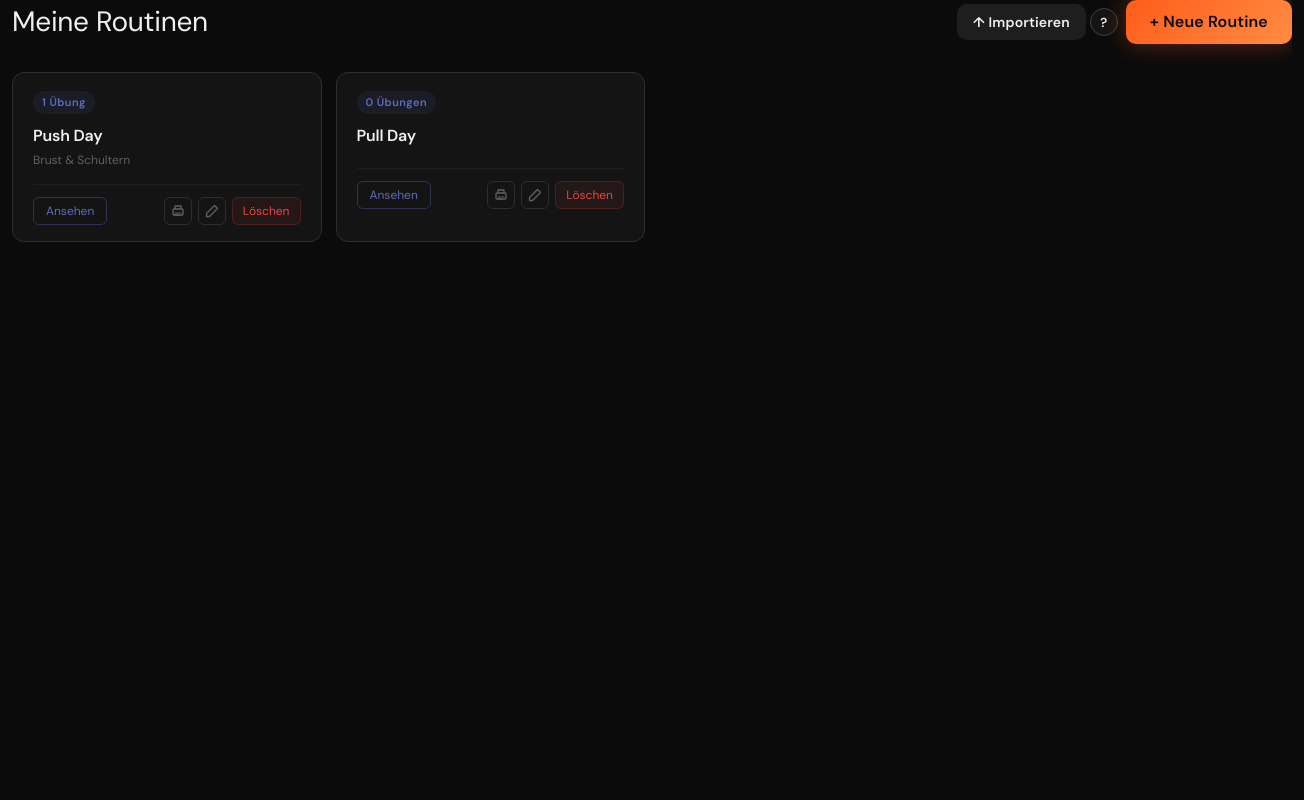
Scenario: RoutineList – Import-Infobox › shows Kopieren button inside infobox
What coordinates should you click on to do the following:
click the button named "import-hilfe anzeigen"
I would click on:
 (1104, 22)
Its box is top-left (1090, 8), bottom-right (1118, 36).
(page scrolled)
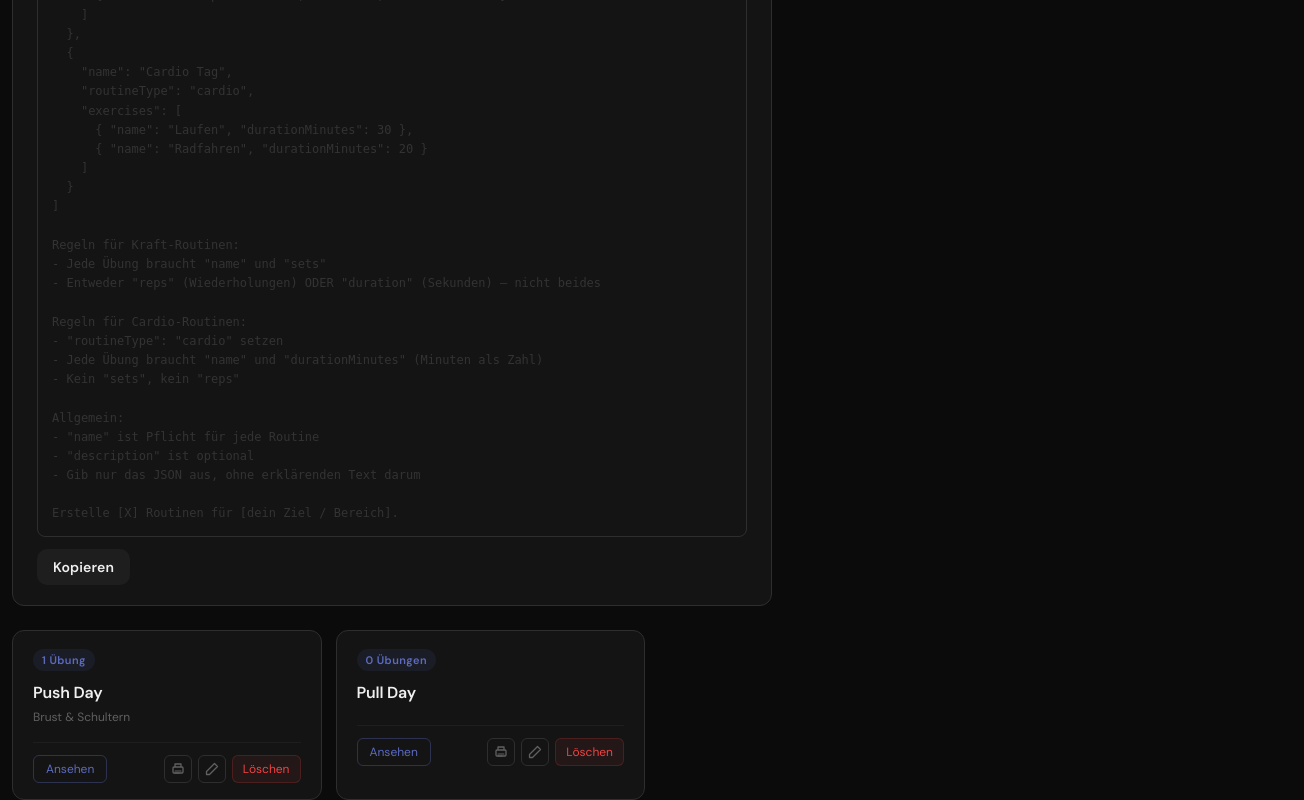
expect the button "Kopieren" is shown: met, box top-left (37, 549), bottom-right (130, 585)
